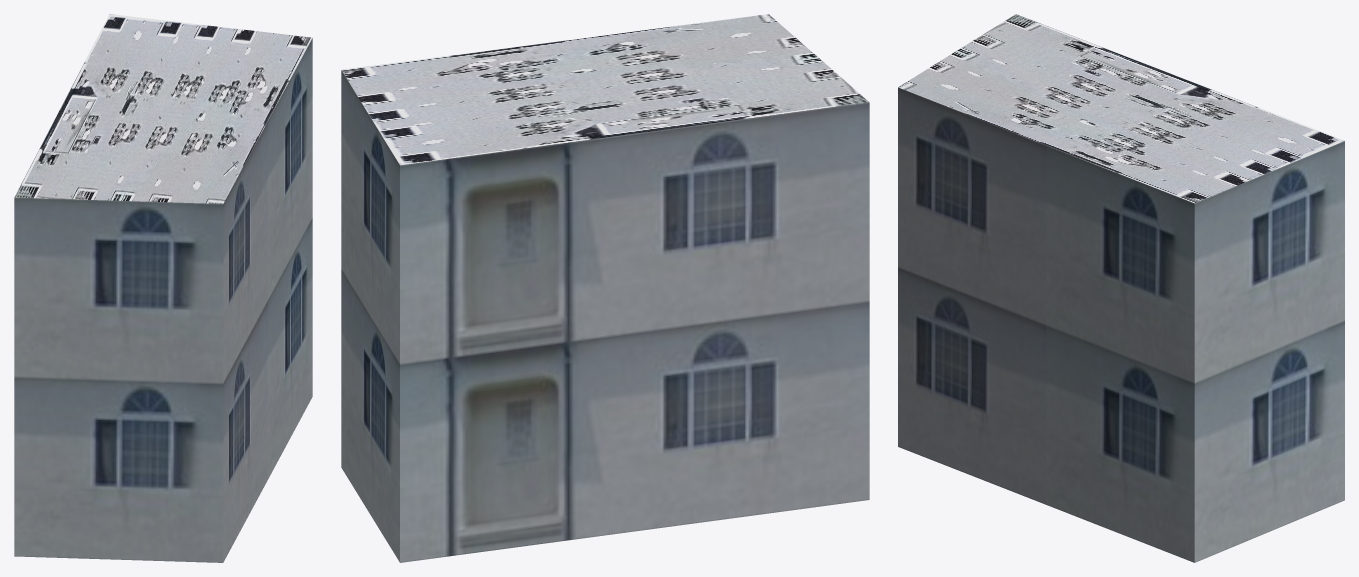
The model's file is ResTex__3525.fbx.
3 renders of one model, left to right at view 1: azimuth 30°, elevation 25°; view 2: azimuth 150°, elevation 25°; view 3: azimuth 270°, elevation 25°, orthographic. The views are drawn at different scales.
Parts seen in each view (by area): view 1: CityEngineMaterial_17_m, CityEngineMaterial_m; view 2: CityEngineMaterial_17_m, CityEngineMaterial_m; view 3: CityEngineMaterial_17_m, CityEngineMaterial_m.
Part boxes in pixels (x1,y1,x2,y2): CityEngineMaterial_17_m: [14, 38, 312, 562]; CityEngineMaterial_m: [14, 14, 312, 203]; CityEngineMaterial_17_m: [341, 70, 869, 562]; CityEngineMaterial_m: [341, 14, 868, 165]; CityEngineMaterial_17_m: [898, 87, 1344, 562]; CityEngineMaterial_m: [898, 14, 1344, 203].
Bounding box in the file's own units: 6.78 × 6 × 6.76.
Materials: 2 (2 with a texture image).
